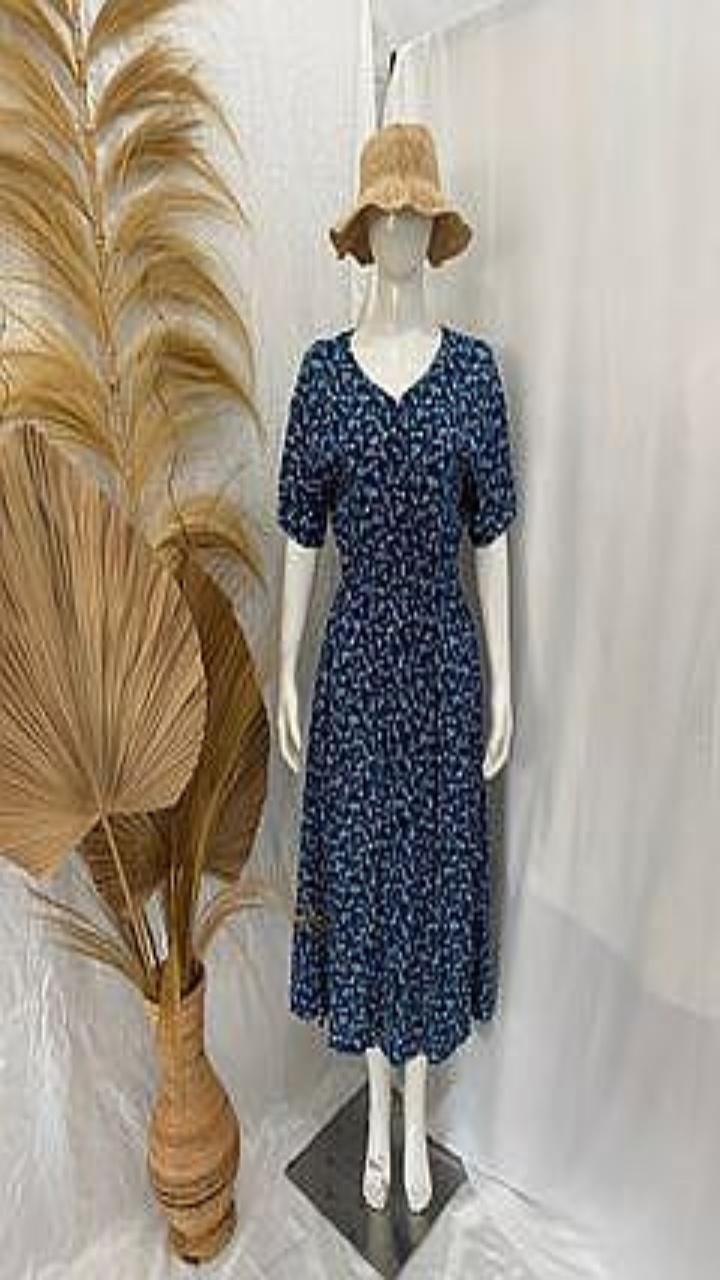Dresses: (277, 325, 516, 1063)
